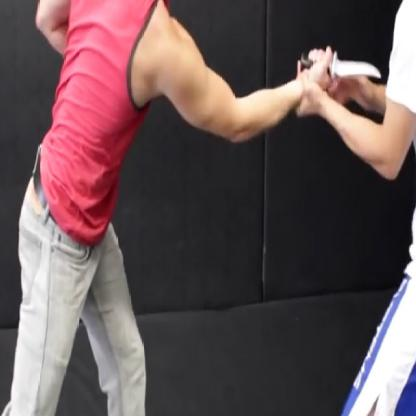knife: (294, 41, 386, 94)
